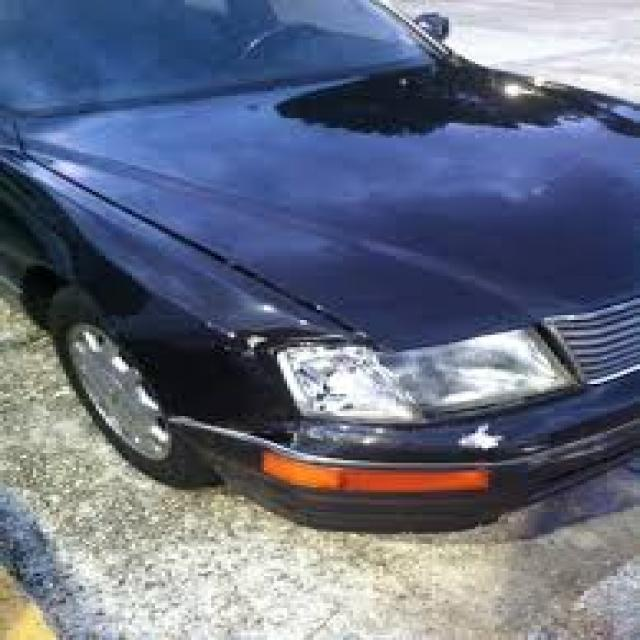moderate: (106, 0, 635, 177)
